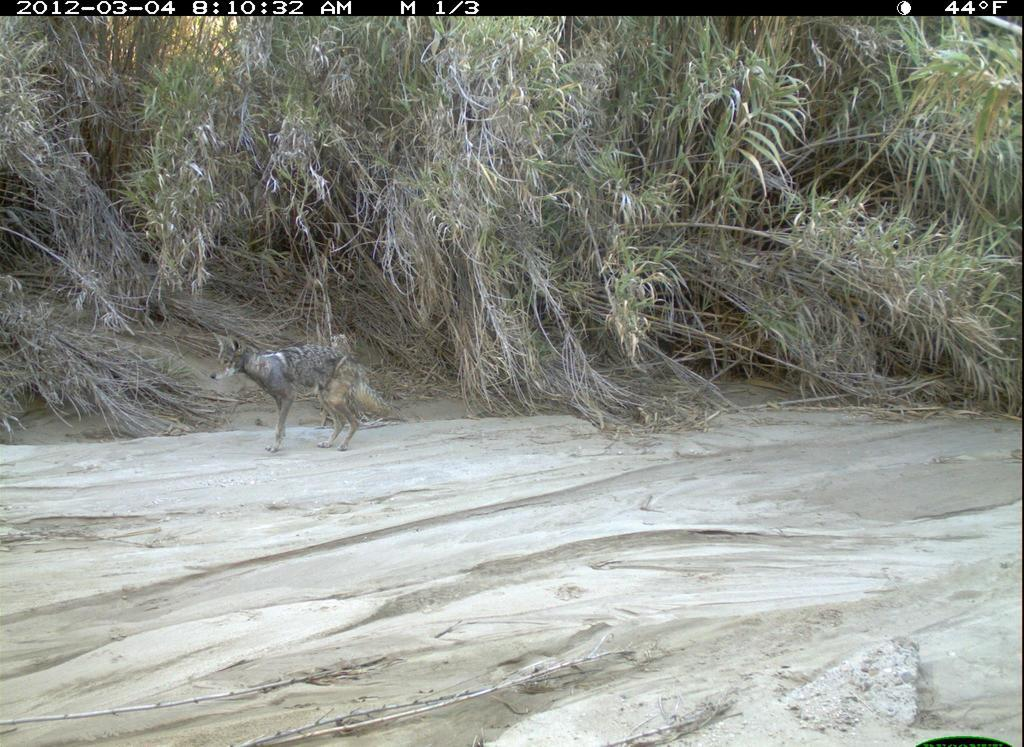coyote: (200, 322, 418, 460)
